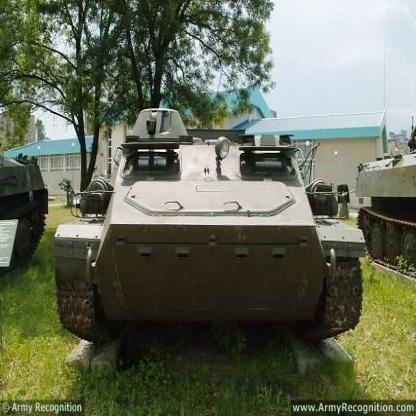MIL_IFV: (53, 109, 366, 351)
